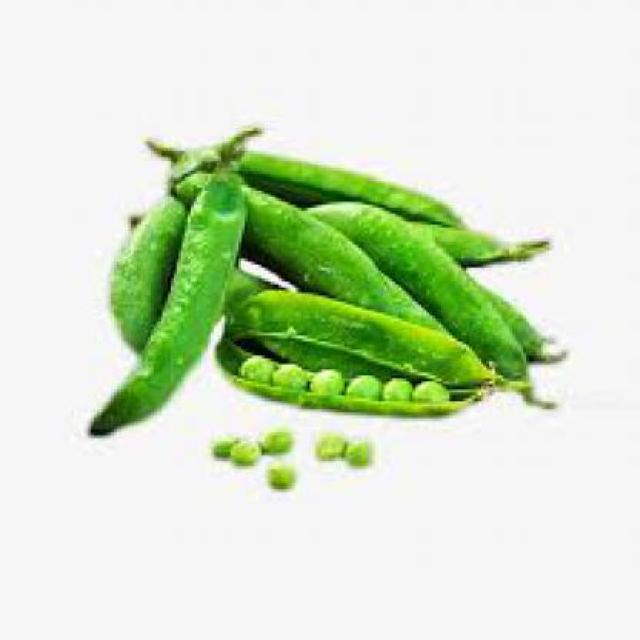BIODEGRADABLE: (168, 157, 549, 412), (90, 124, 262, 436), (310, 196, 535, 381), (231, 284, 532, 382), (151, 140, 466, 226), (218, 332, 490, 416), (111, 188, 191, 352), (478, 278, 568, 364), (398, 222, 554, 262), (222, 264, 293, 318), (244, 353, 278, 384), (313, 362, 347, 392), (264, 422, 298, 452), (276, 359, 313, 386), (416, 382, 452, 406), (237, 432, 261, 466), (353, 370, 384, 395), (387, 372, 415, 396), (319, 432, 347, 456), (271, 466, 298, 486), (356, 439, 370, 463), (219, 440, 233, 454)
